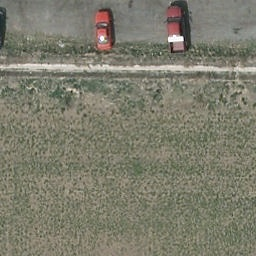car: (95, 10, 113, 52)
pickup: (165, 5, 190, 54)
